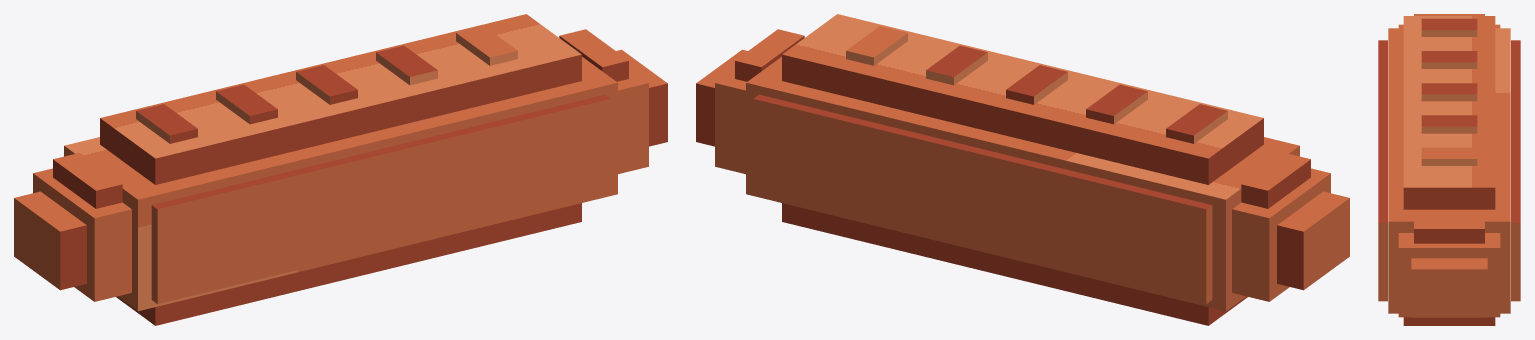
The model's file is vienesa.gltf.
3 views of the same model, side by side, from view 1: azimuth 30°, elevation 25°; view 2: azimuth 150°, elevation 25°; view 3: azimuth 270°, elevation 25° (orthographic). The views are drawn at different scales.
Visible parts, largest first — view 1: sausage_body, rounded_ends, top_cuts; view 2: sausage_body, rounded_ends, top_cuts; view 3: sausage_body, rounded_ends, top_cuts.
Boxes of the visible parts, <box> form: sausage_body: <box>64,14,617,325</box>; rounded_ends: <box>14,29,667,301</box>; top_cuts: <box>136,26,517,143</box>; sausage_body: <box>746,14,1299,325</box>; rounded_ends: <box>696,29,1349,301</box>; top_cuts: <box>846,26,1227,143</box>; sausage_body: <box>1378,16,1520,325</box>; rounded_ends: <box>1398,14,1500,317</box>; top_cuts: <box>1421,18,1477,165</box>.
Bounding box in the file's own units: 1.42 × 0.395 × 0.35.
Materials: 1 (1 with a texture image).
